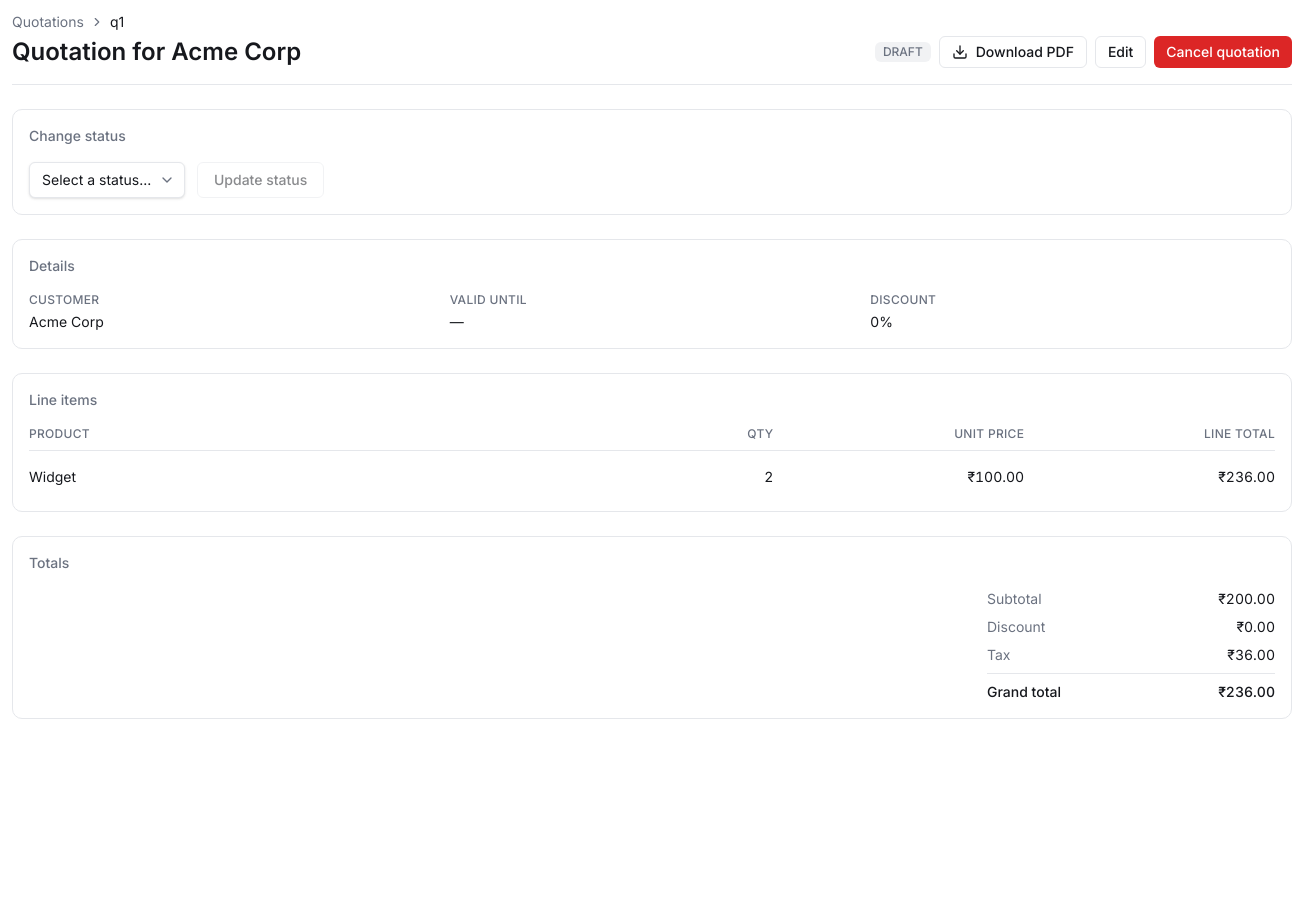
QuotationDetailPage › toggles into the shared edit form for a DRAFT quotation and back on cancel
Step 1. Click the button "Edit" → (1121, 52), box [1095,36,1146,68]
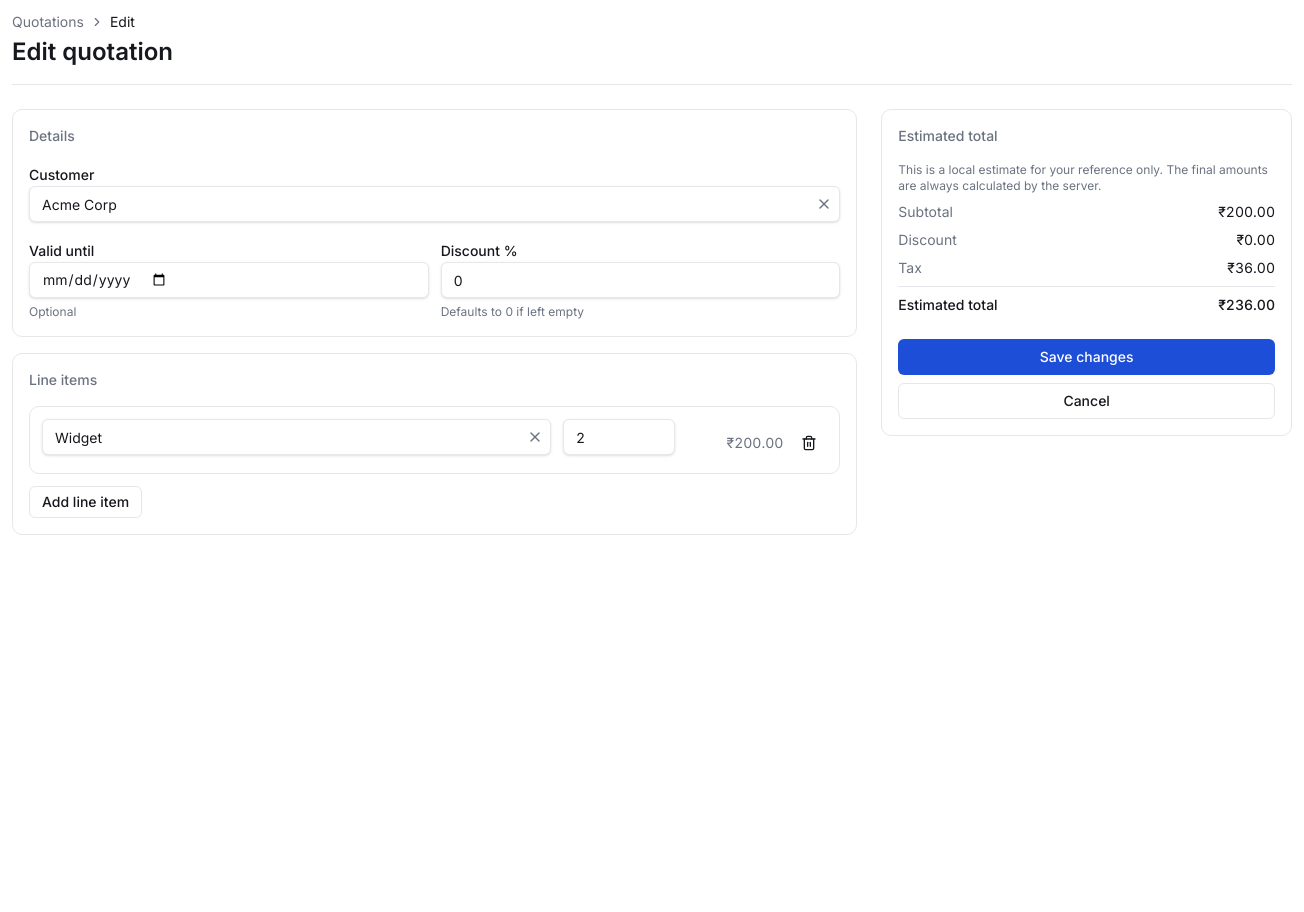
Check: the heading "Edit quotation" is shown, box [12,36,173,68]
Check: the dropdown named "customer" holds "Acme Corp", box [29,186,840,222]
Step 2. Click the button "Cancel" → (1087, 401), box [898,383,1275,419]
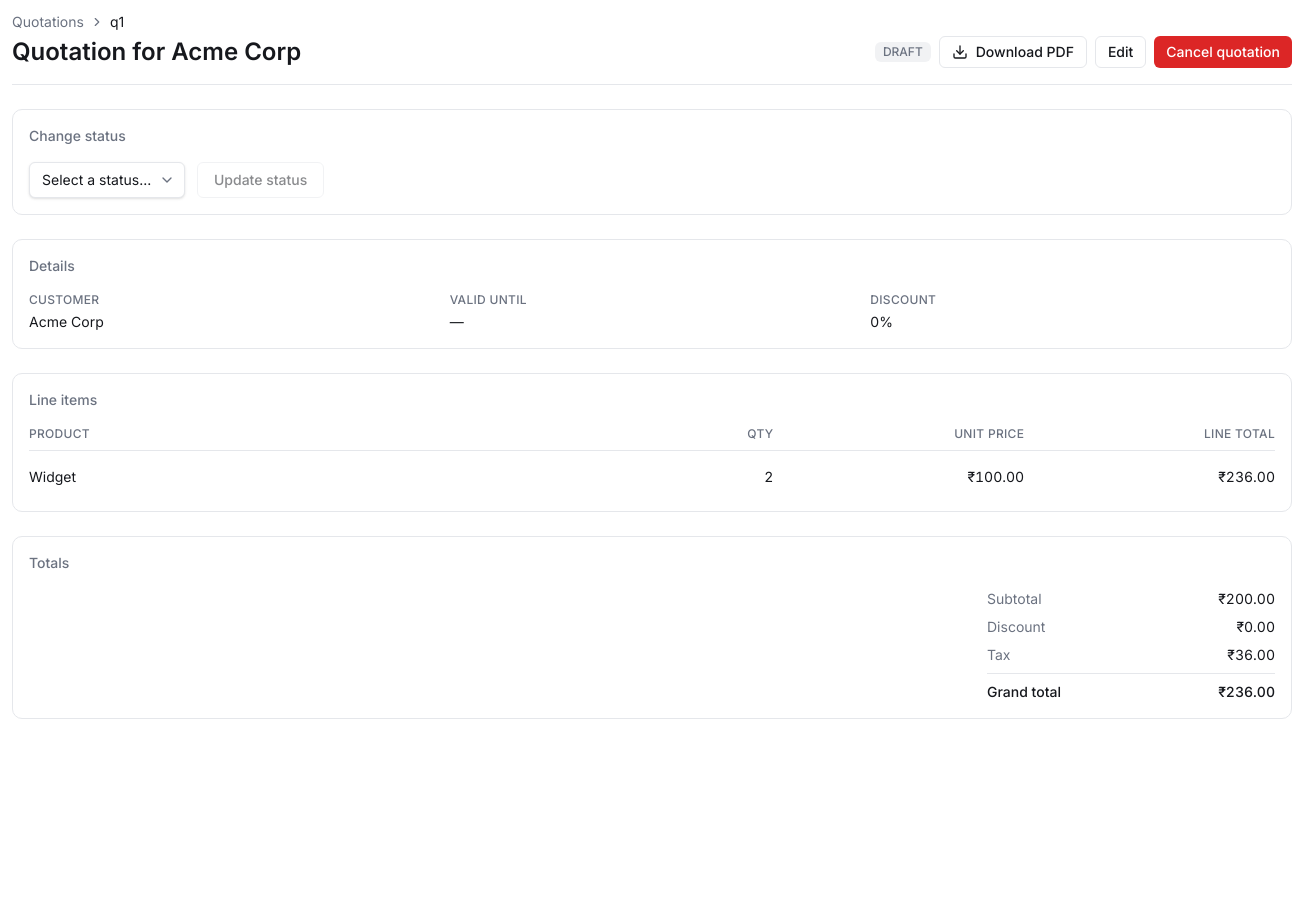
Check: the button "Edit" is shown, box [1095,36,1146,68]
